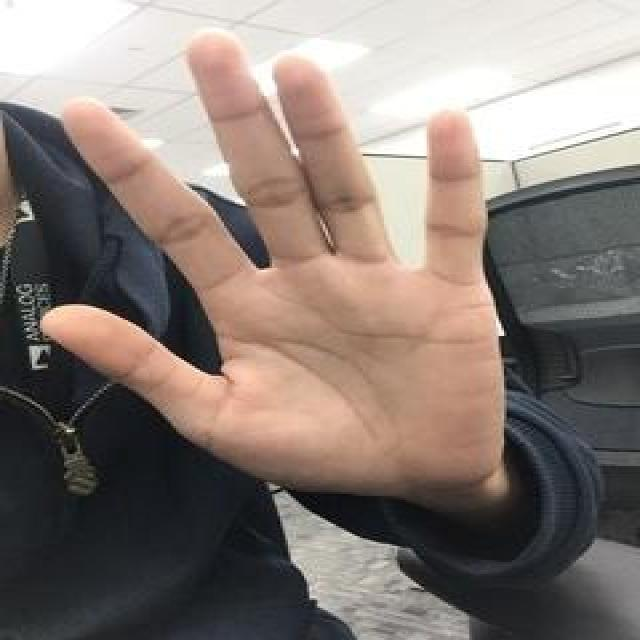no-gloves: (33, 32, 508, 484)
